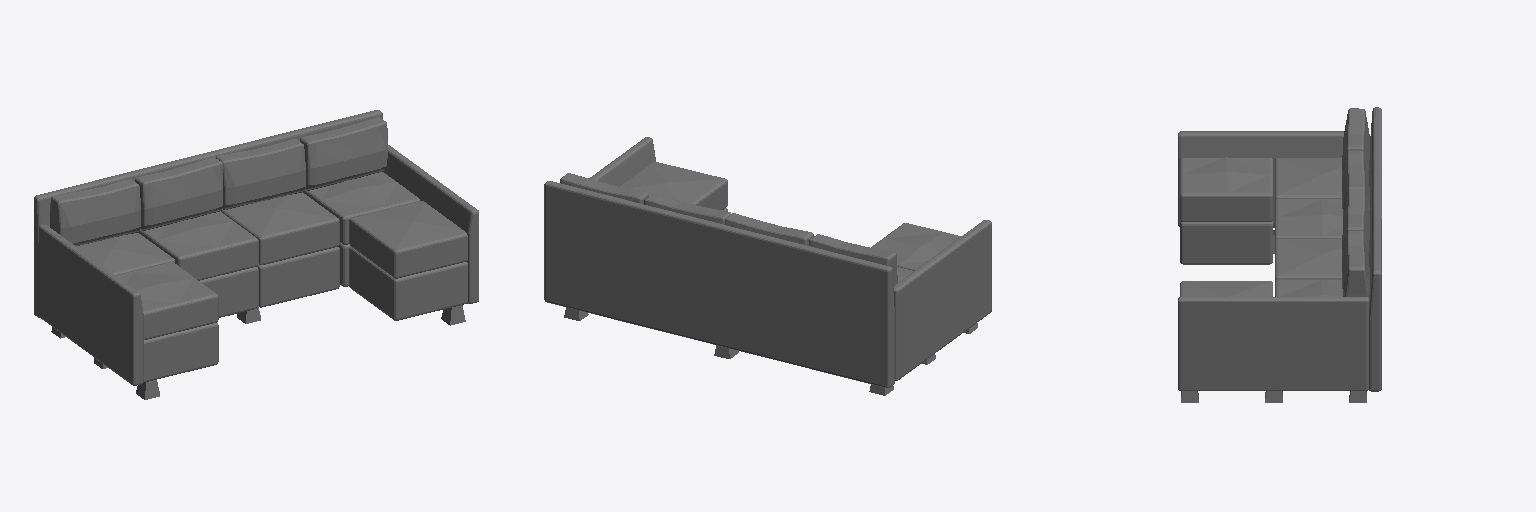
File: Couch.obj
3 views of the same model, side by side, from view 1: azimuth 30°, elevation 25°; view 2: azimuth 150°, elevation 25°; view 3: azimuth 270°, elevation 25° (orthographic).
Parts seen in each view (by area): view 1: Couch.obj; view 2: Couch.obj; view 3: Couch.obj.
Boxes of the visible parts, box(x1,y1,x2,y2) form: Couch.obj: box(34, 110, 478, 399); Couch.obj: box(544, 137, 991, 395); Couch.obj: box(1178, 107, 1381, 402).
Bounding box in the file's own units: 667 × 252 × 339.